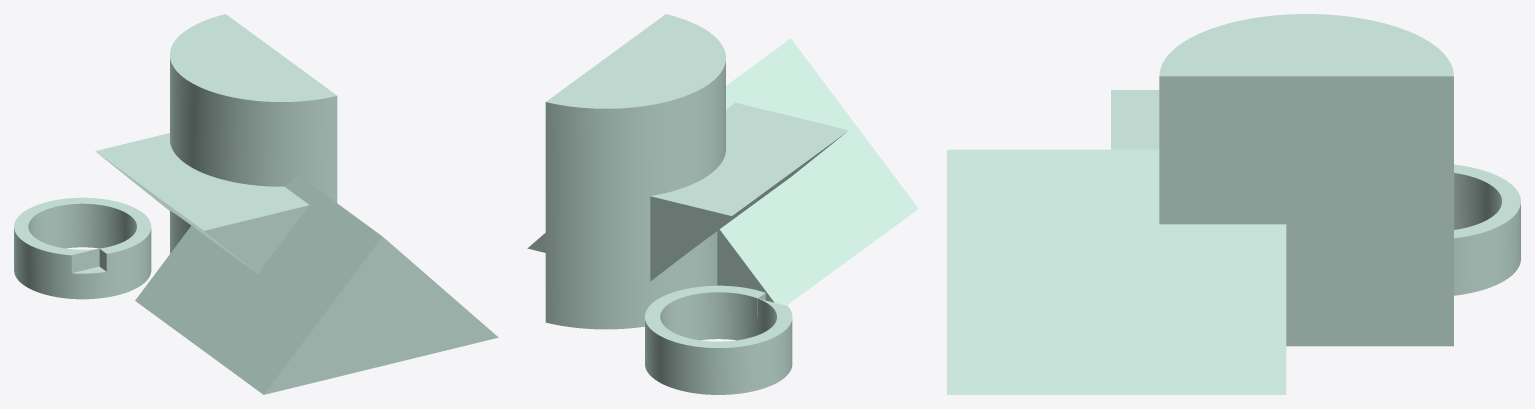
The picture shows the model from 3 angles, left to right: view 1: azimuth 30°, elevation 25°; view 2: azimuth 150°, elevation 25°; view 3: azimuth 270°, elevation 25°; orthographic projection. The views are drawn at different scales.
Visible parts, largest first — view 1: Renderer Node; view 2: Renderer Node; view 3: Renderer Node.
Part boxes in pixels (x1,y1,x2,y2): Renderer Node: (14, 14, 498, 394); Renderer Node: (527, 14, 918, 394); Renderer Node: (947, 14, 1520, 394).
Size of the model in its own units: 0.9316 by 0.6484 by 1.2.
